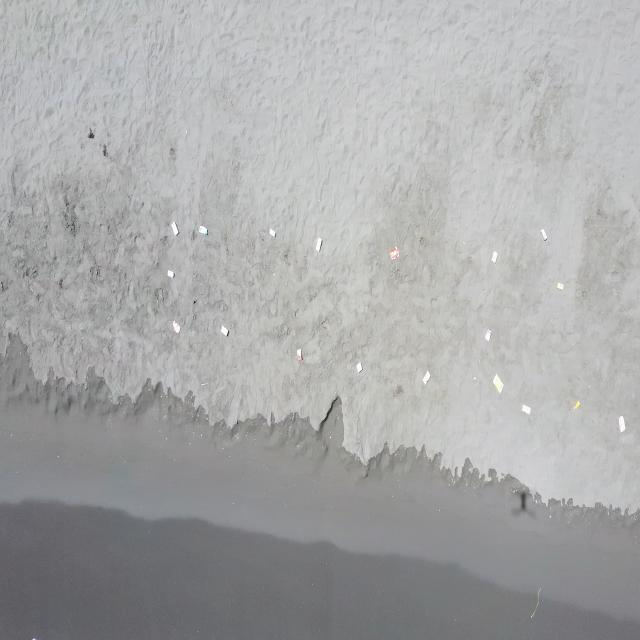retort-pouch: (493, 372, 504, 394), (422, 370, 432, 387), (390, 245, 400, 261), (172, 320, 182, 334), (315, 236, 323, 253), (171, 221, 180, 236), (198, 224, 208, 237), (619, 415, 626, 433), (295, 348, 303, 363), (522, 403, 532, 415), (491, 249, 499, 264), (356, 360, 364, 374), (220, 325, 229, 337), (167, 268, 175, 280), (557, 281, 565, 293), (541, 228, 547, 244), (485, 329, 492, 342), (573, 398, 580, 411), (270, 228, 277, 238)
